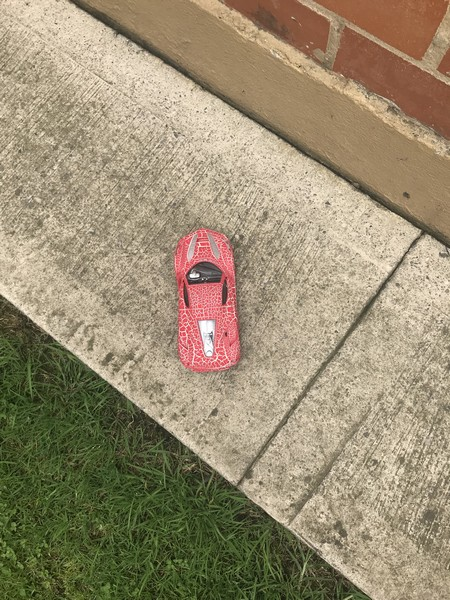RC: (171, 227, 245, 373)
